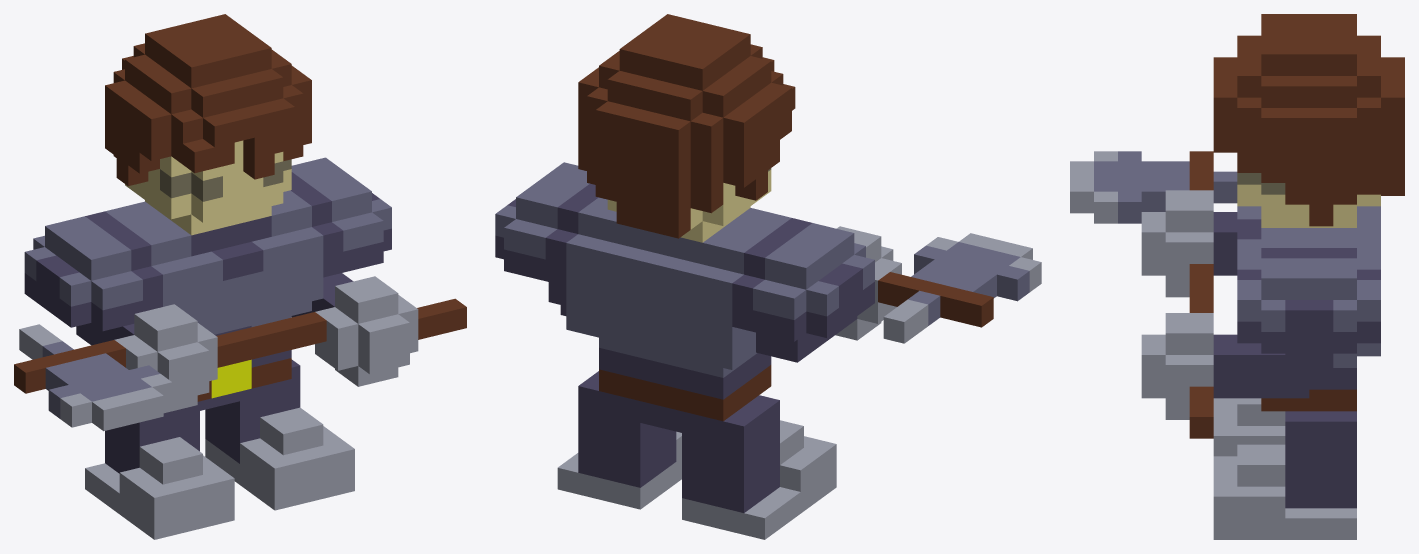
File: nhRoam.obj
3 views of the same model, side by side, from view 1: azimuth 30°, elevation 25°; view 2: azimuth 150°, elevation 25°; view 3: azimuth 270°, elevation 25° (orthographic). The views are drawn at different scales.
Size of the model in its own units: 2.2 by 2.1 by 1.4.
1 material, 1 textured.
